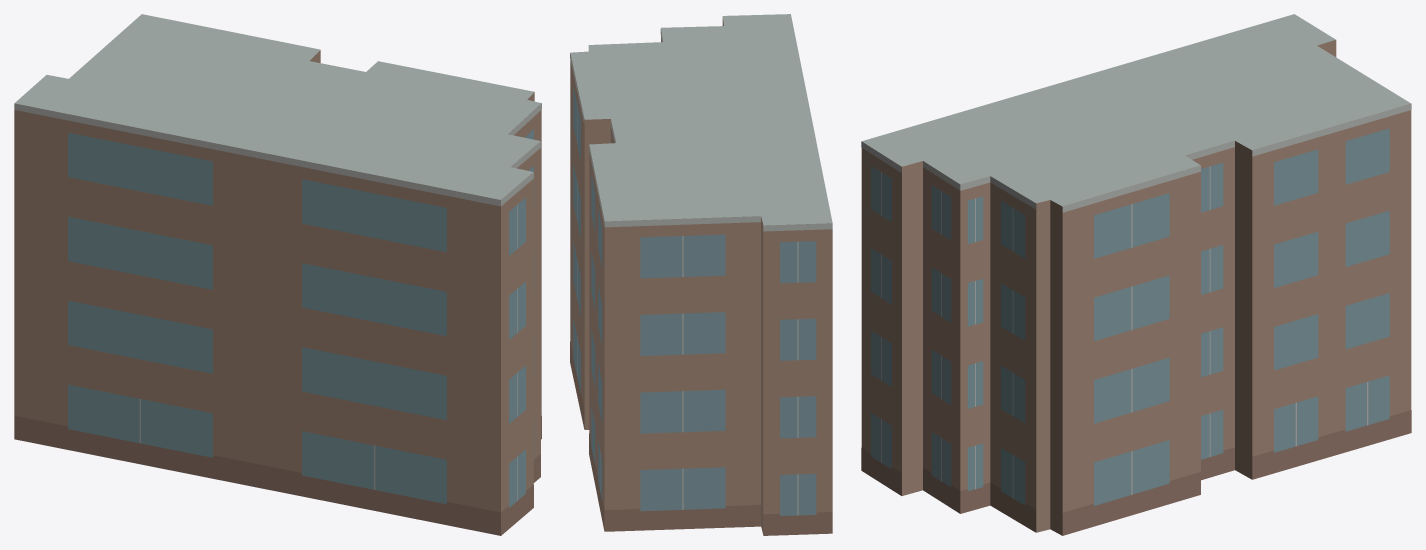
File: survey-upis-32942898.glb
3 renders of one model, left to right at view 1: azimuth 30°, elevation 25°; view 2: azimuth 150°, elevation 25°; view 3: azimuth 270°, elevation 25°, orthographic. The views are drawn at different scales.
Visible parts, largest first — view 1: survey-upis-32942898.tmp; view 2: survey-upis-32942898.tmp; view 3: survey-upis-32942898.tmp.
Part boxes in pixels (x1,y1,x2,y2): survey-upis-32942898.tmp: (14, 14, 541, 535); survey-upis-32942898.tmp: (570, 14, 832, 535); survey-upis-32942898.tmp: (861, 14, 1411, 535).
Size of the model in its own units: 15.93 by 12.7 by 19.23.
